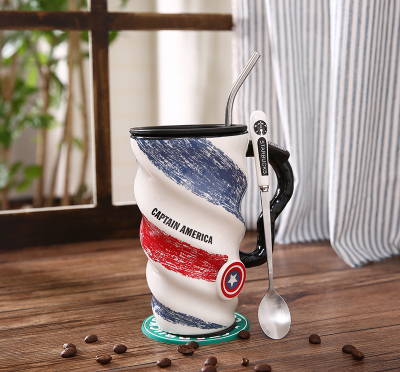cup: (126, 122, 297, 338)
